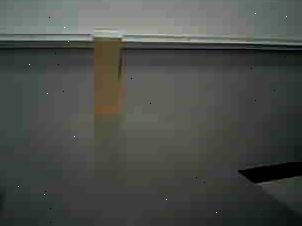Bottle A: (87, 26, 134, 123)
